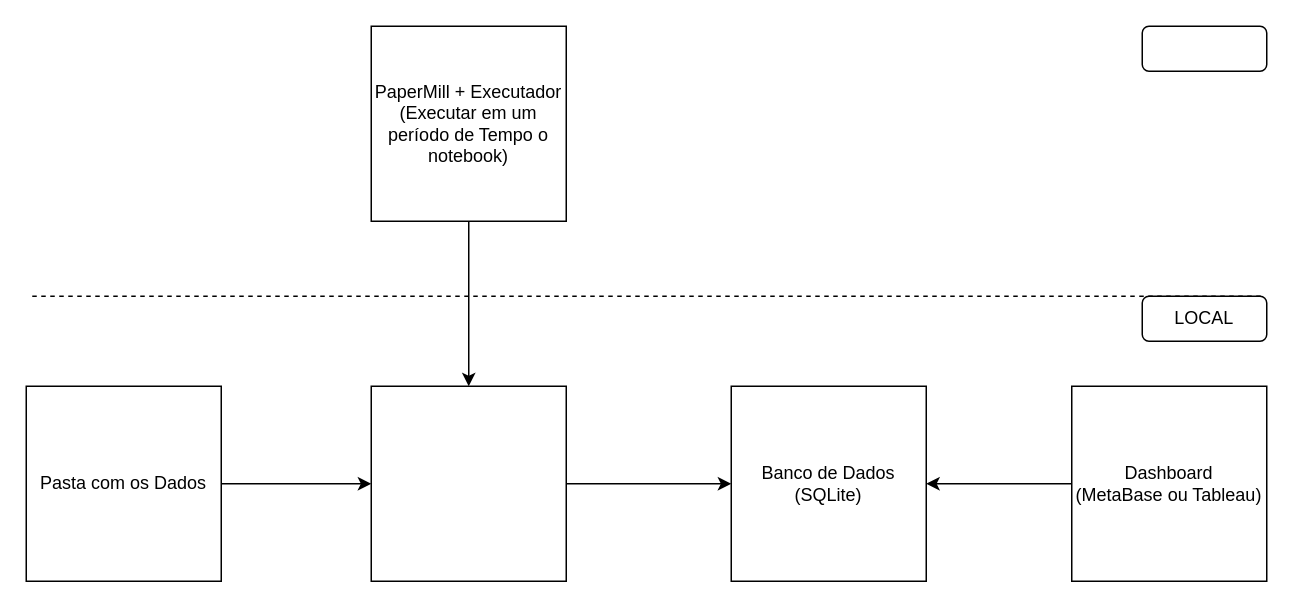
Image size: 1293x608. Some labels were removed from this diagram. The box of each missing label's shape, as (x1, y1, x2, y2) in pixels:
Jupyter Notebook (Deploy): (370, 385, 566, 581)
NUVEM: (1141, 25, 1267, 71)
